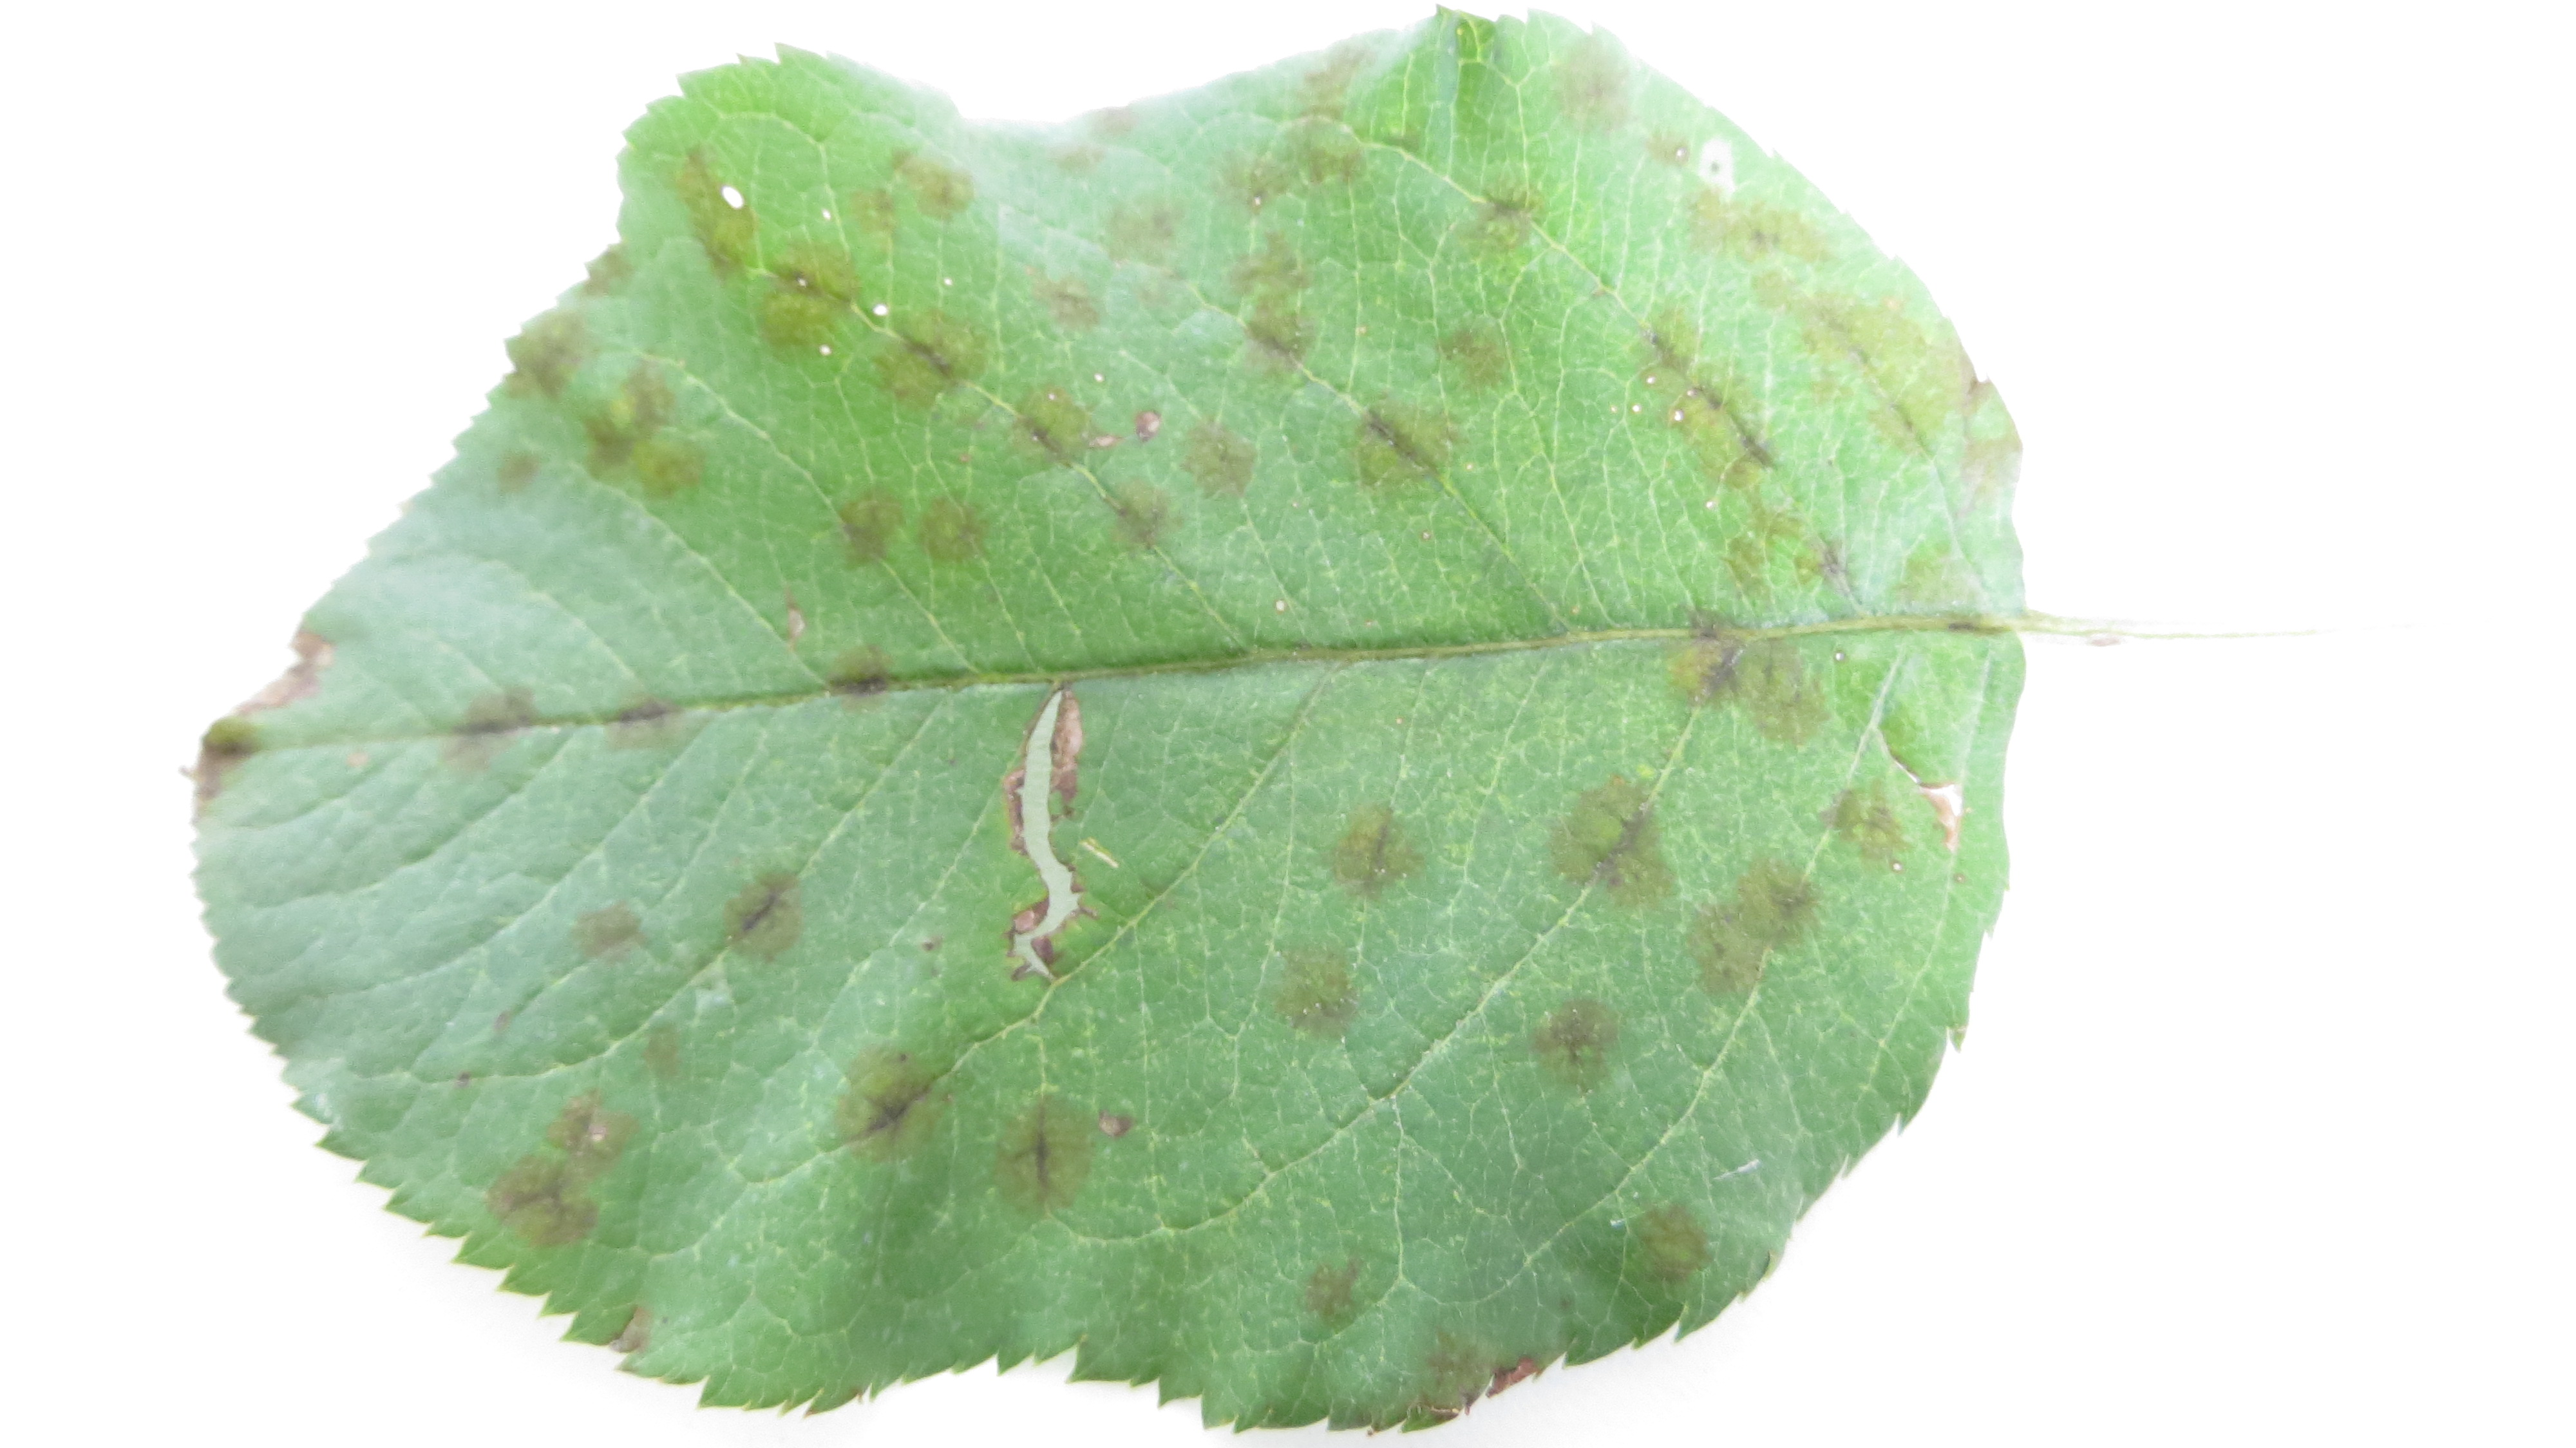sarna: (1783, 281, 1950, 473), (1536, 768, 1691, 922), (987, 1071, 1111, 1239), (1681, 853, 1815, 1007), (575, 347, 704, 506), (1690, 618, 1833, 758), (810, 1025, 939, 1179), (1311, 797, 1447, 920), (1339, 379, 1467, 506), (750, 232, 865, 365), (1258, 928, 1378, 1048), (869, 299, 984, 421), (478, 1151, 605, 1259), (1506, 977, 1619, 1098), (1223, 122, 1368, 216), (1226, 216, 1315, 366), (1675, 366, 1773, 497), (1617, 1181, 1720, 1301), (683, 138, 761, 294), (589, 664, 692, 775), (1690, 196, 1819, 285), (888, 133, 996, 235), (442, 659, 531, 781), (717, 855, 805, 977), (993, 386, 1095, 483), (502, 297, 586, 416), (1769, 497, 1859, 604), (1674, 524, 1789, 605), (538, 1078, 640, 1168), (1812, 775, 1911, 867), (1297, 1241, 1382, 1347), (1622, 290, 1711, 389), (1548, 35, 1633, 138), (805, 634, 904, 713), (908, 466, 982, 572), (824, 466, 902, 566), (1175, 409, 1261, 499), (1019, 264, 1113, 347), (568, 867, 653, 958), (1304, 21, 1380, 120), (1458, 170, 1541, 255), (1100, 473, 1182, 554), (1437, 312, 1514, 395), (1108, 198, 1200, 267), (575, 223, 642, 304)
